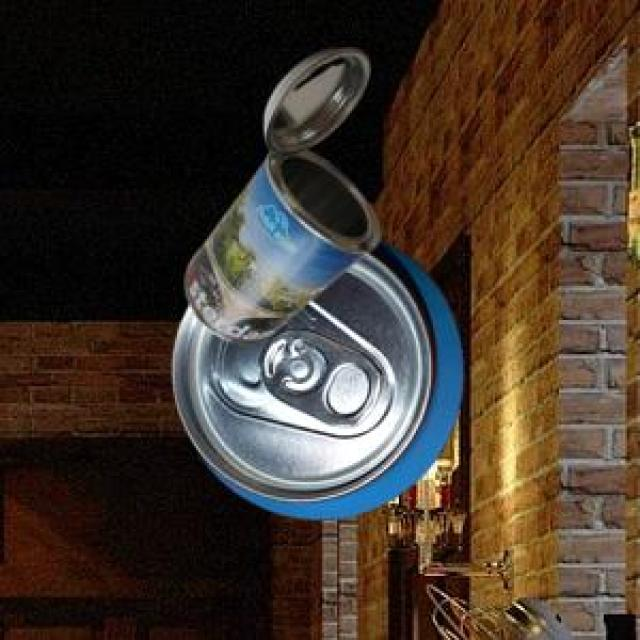logam: (170, 238, 460, 515), (182, 46, 377, 340)
